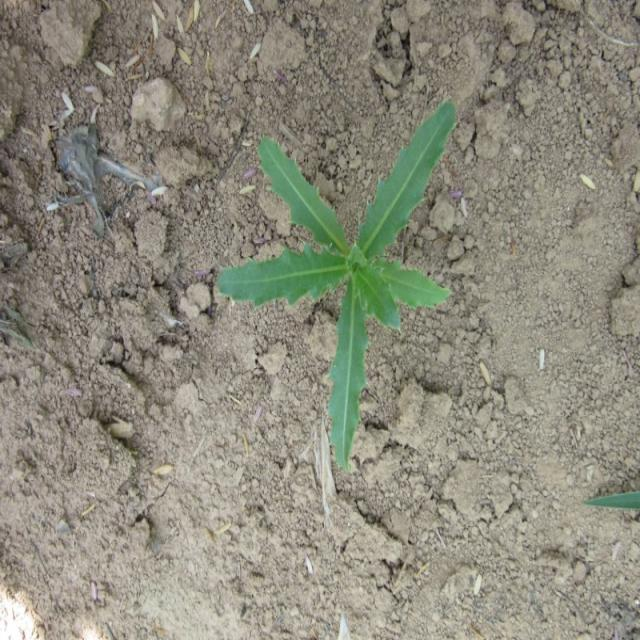field_thistle: (226, 95, 492, 429)
